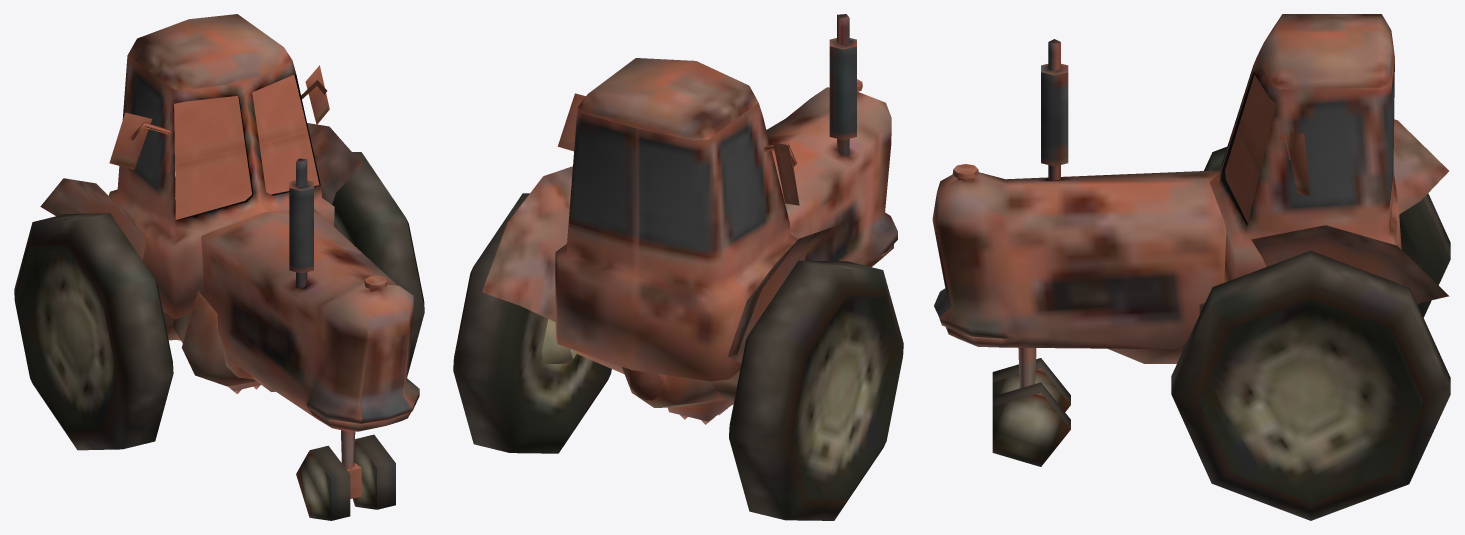
Rendered from tractor.glb.
3 views of the same model, side by side, from view 1: azimuth 30°, elevation 25°; view 2: azimuth 150°, elevation 25°; view 3: azimuth 270°, elevation 25° (orthographic). The views are drawn at different scales.
Visible parts, largest first — view 1: Object_3; view 2: Object_3; view 3: Object_3.
Part boxes in pixels (x1,y1,x2,y2): Object_3: (14, 14, 424, 520); Object_3: (453, 14, 903, 520); Object_3: (932, 14, 1450, 520).
Bounding box in the file's own units: 0.3349 × 0.3946 × 0.4436.
Materials: 2 (2 with a texture image).
